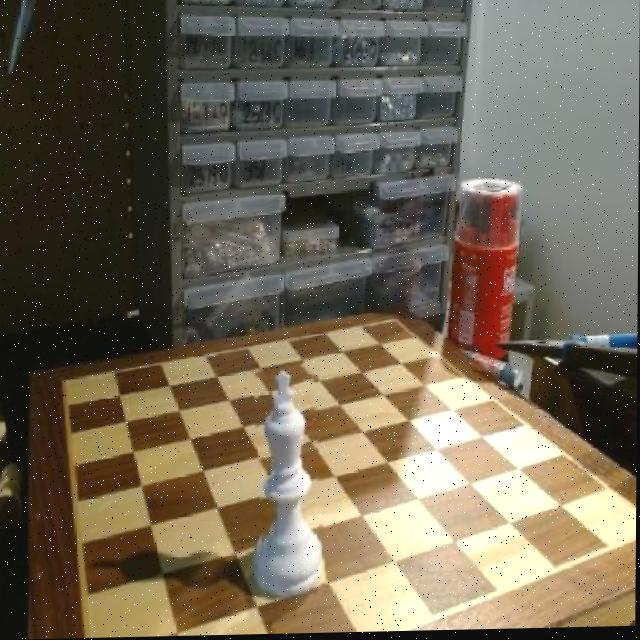white-bishop: (255, 365, 325, 601)
